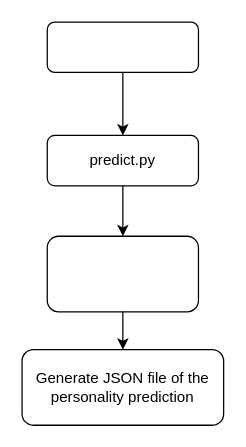
This 246x447 diagram has some shape labels left out. Each missing label, with the box of its shape:
Pickle Models('OPN', 'CON', 'EXT', 'AGR', 'NEU'): (46, 235, 198, 312)
Receive JSON file of response: (46, 21, 198, 72)
